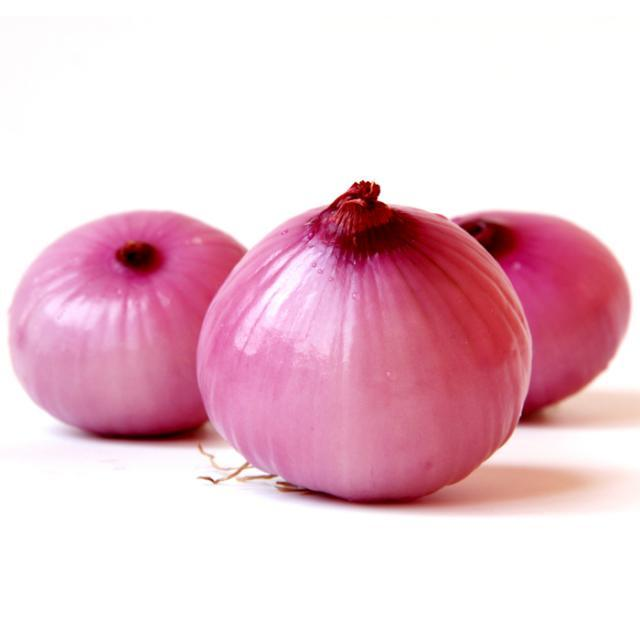onion: (195, 181, 537, 505), (6, 208, 251, 437)
